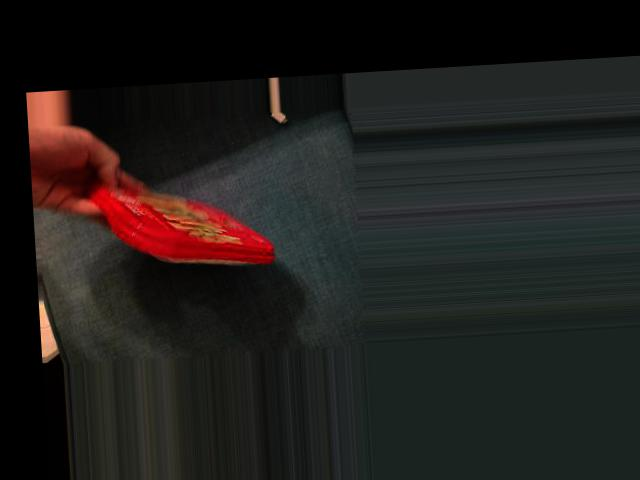cheese: (97, 169, 273, 277)
